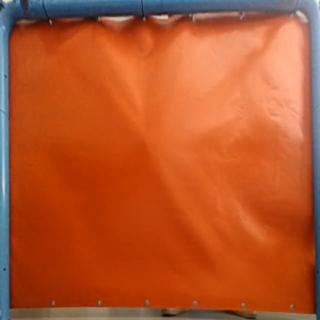Hit-hRxx: (137, 134, 157, 152)
